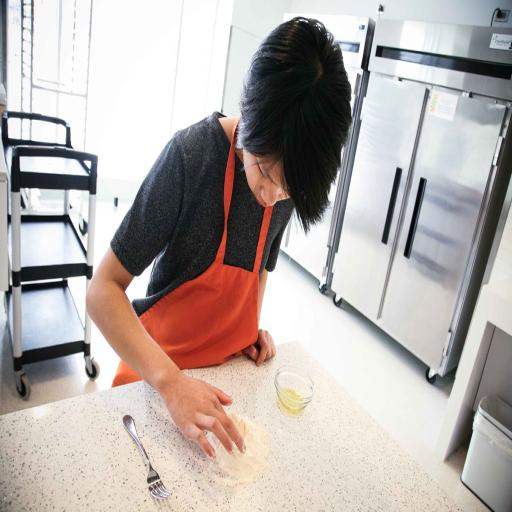Person: (80, 100, 384, 414)
no_gloves: (158, 323, 264, 395), (240, 294, 282, 324)
no_helmet: (242, 98, 358, 216)
none: (154, 174, 260, 322)
